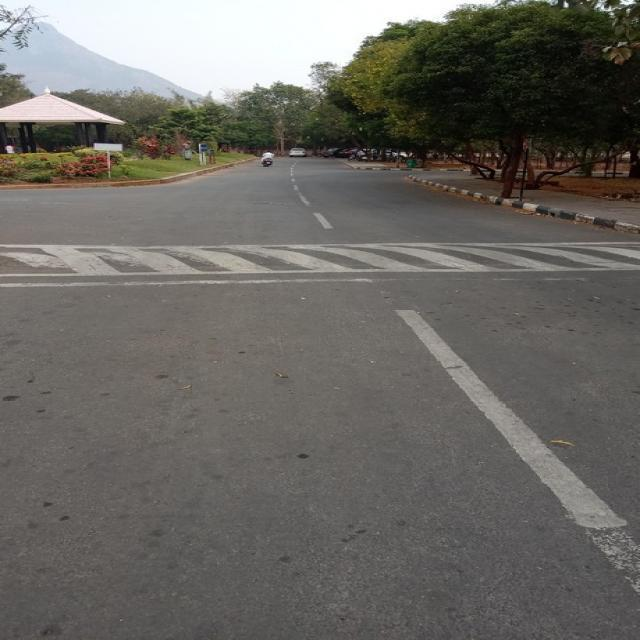speedbreaker: (0, 233, 640, 285)
